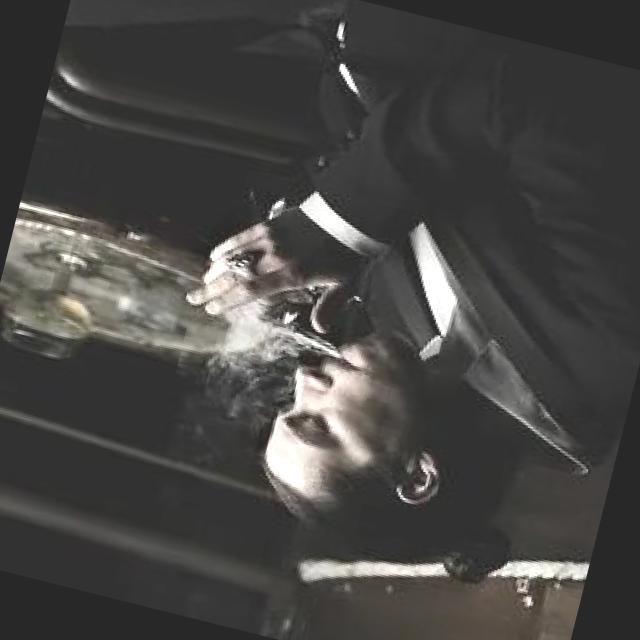smoke: (278, 323, 354, 362)
